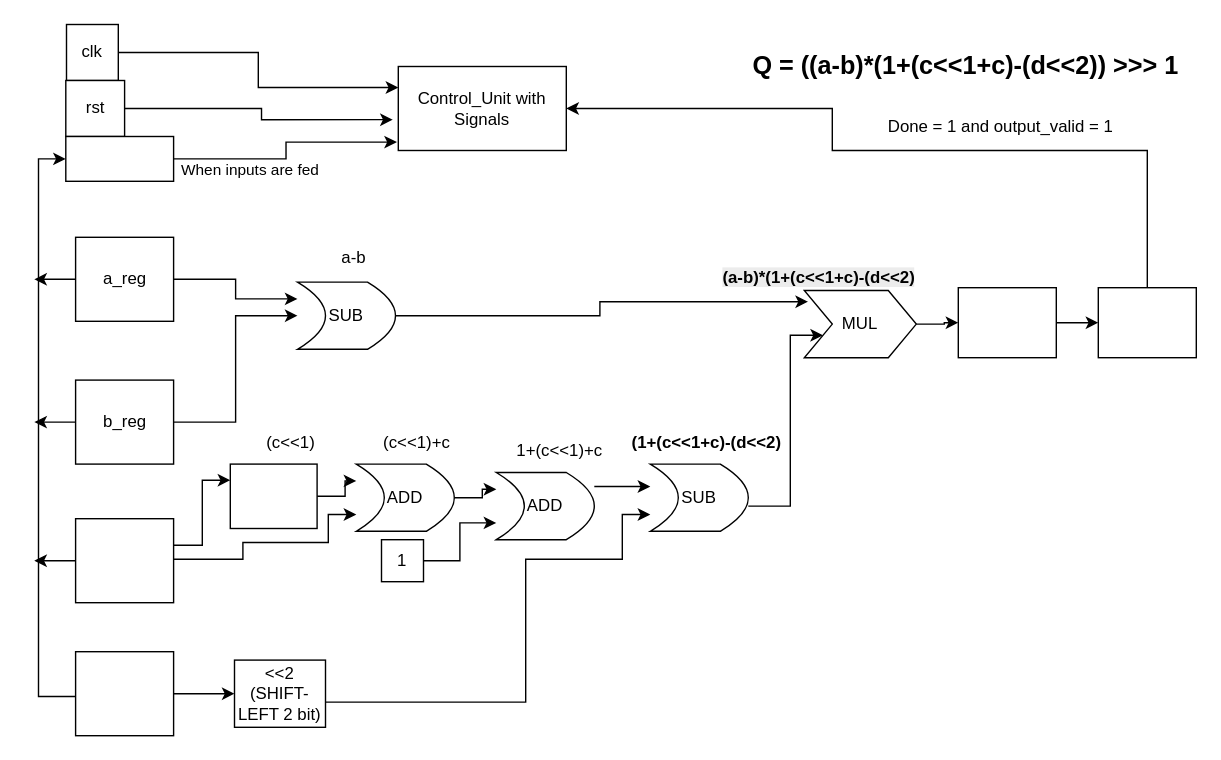
This 1221x760 diagram has some shape labels left out. Here are the shapes that lost their labels. From the top down, the centre of each, then its label:
At point 119,158: "input_valid".
At point 1006,322: ">>>1 (SHIFT-RIGHT 1 bit)".
At point 1146,322: "Q (RESULT)".
At point 273,495: "<<1 (SHIFT-LEFT 1 bit)".
At point 124,560: "c_reg".
At point 124,693: "d_reg".
